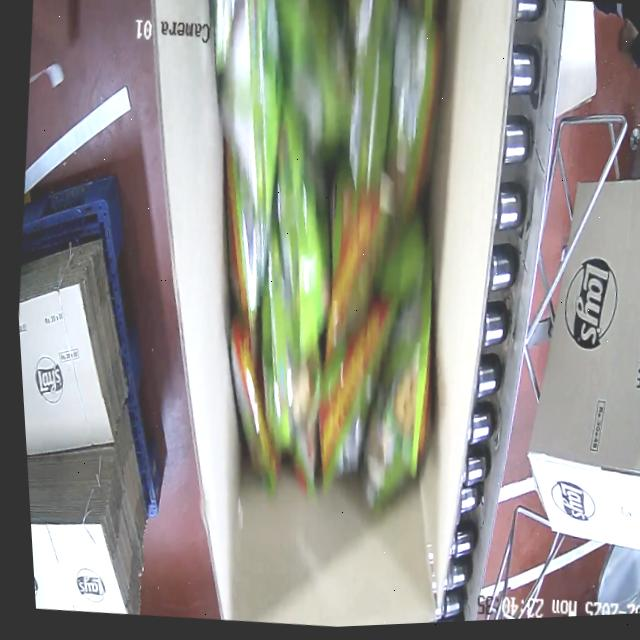YOGURT_HERB: (159, 0, 496, 541)
